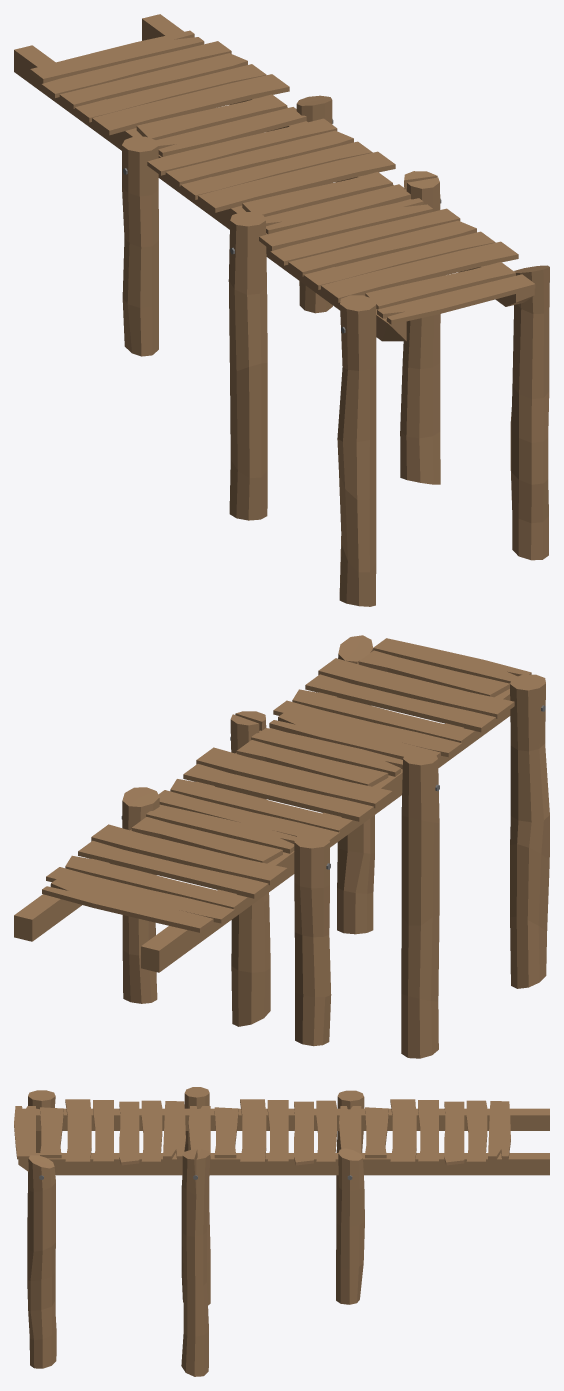
File: Quay.fbx
The picture shows the model from 3 angles, top to bottom: view 1: azimuth 30°, elevation 25°; view 2: azimuth 150°, elevation 25°; view 3: azimuth 270°, elevation 25°; orthographic projection. The views are drawn at different scales.
Visible parts, largest first — view 1: Quay_Model; view 2: Quay_Model; view 3: Quay_Model.
Part boxes in pixels (x1,y1,x2,y2): Quay_Model: (14,14,549,606); Quay_Model: (14,635,549,1058); Quay_Model: (14,1087,549,1376).
Bounding box in the file's own units: 161 × 227 × 502.
